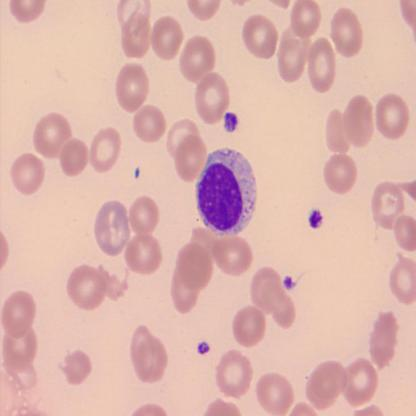Myelocyte: (196, 148, 255, 236)
